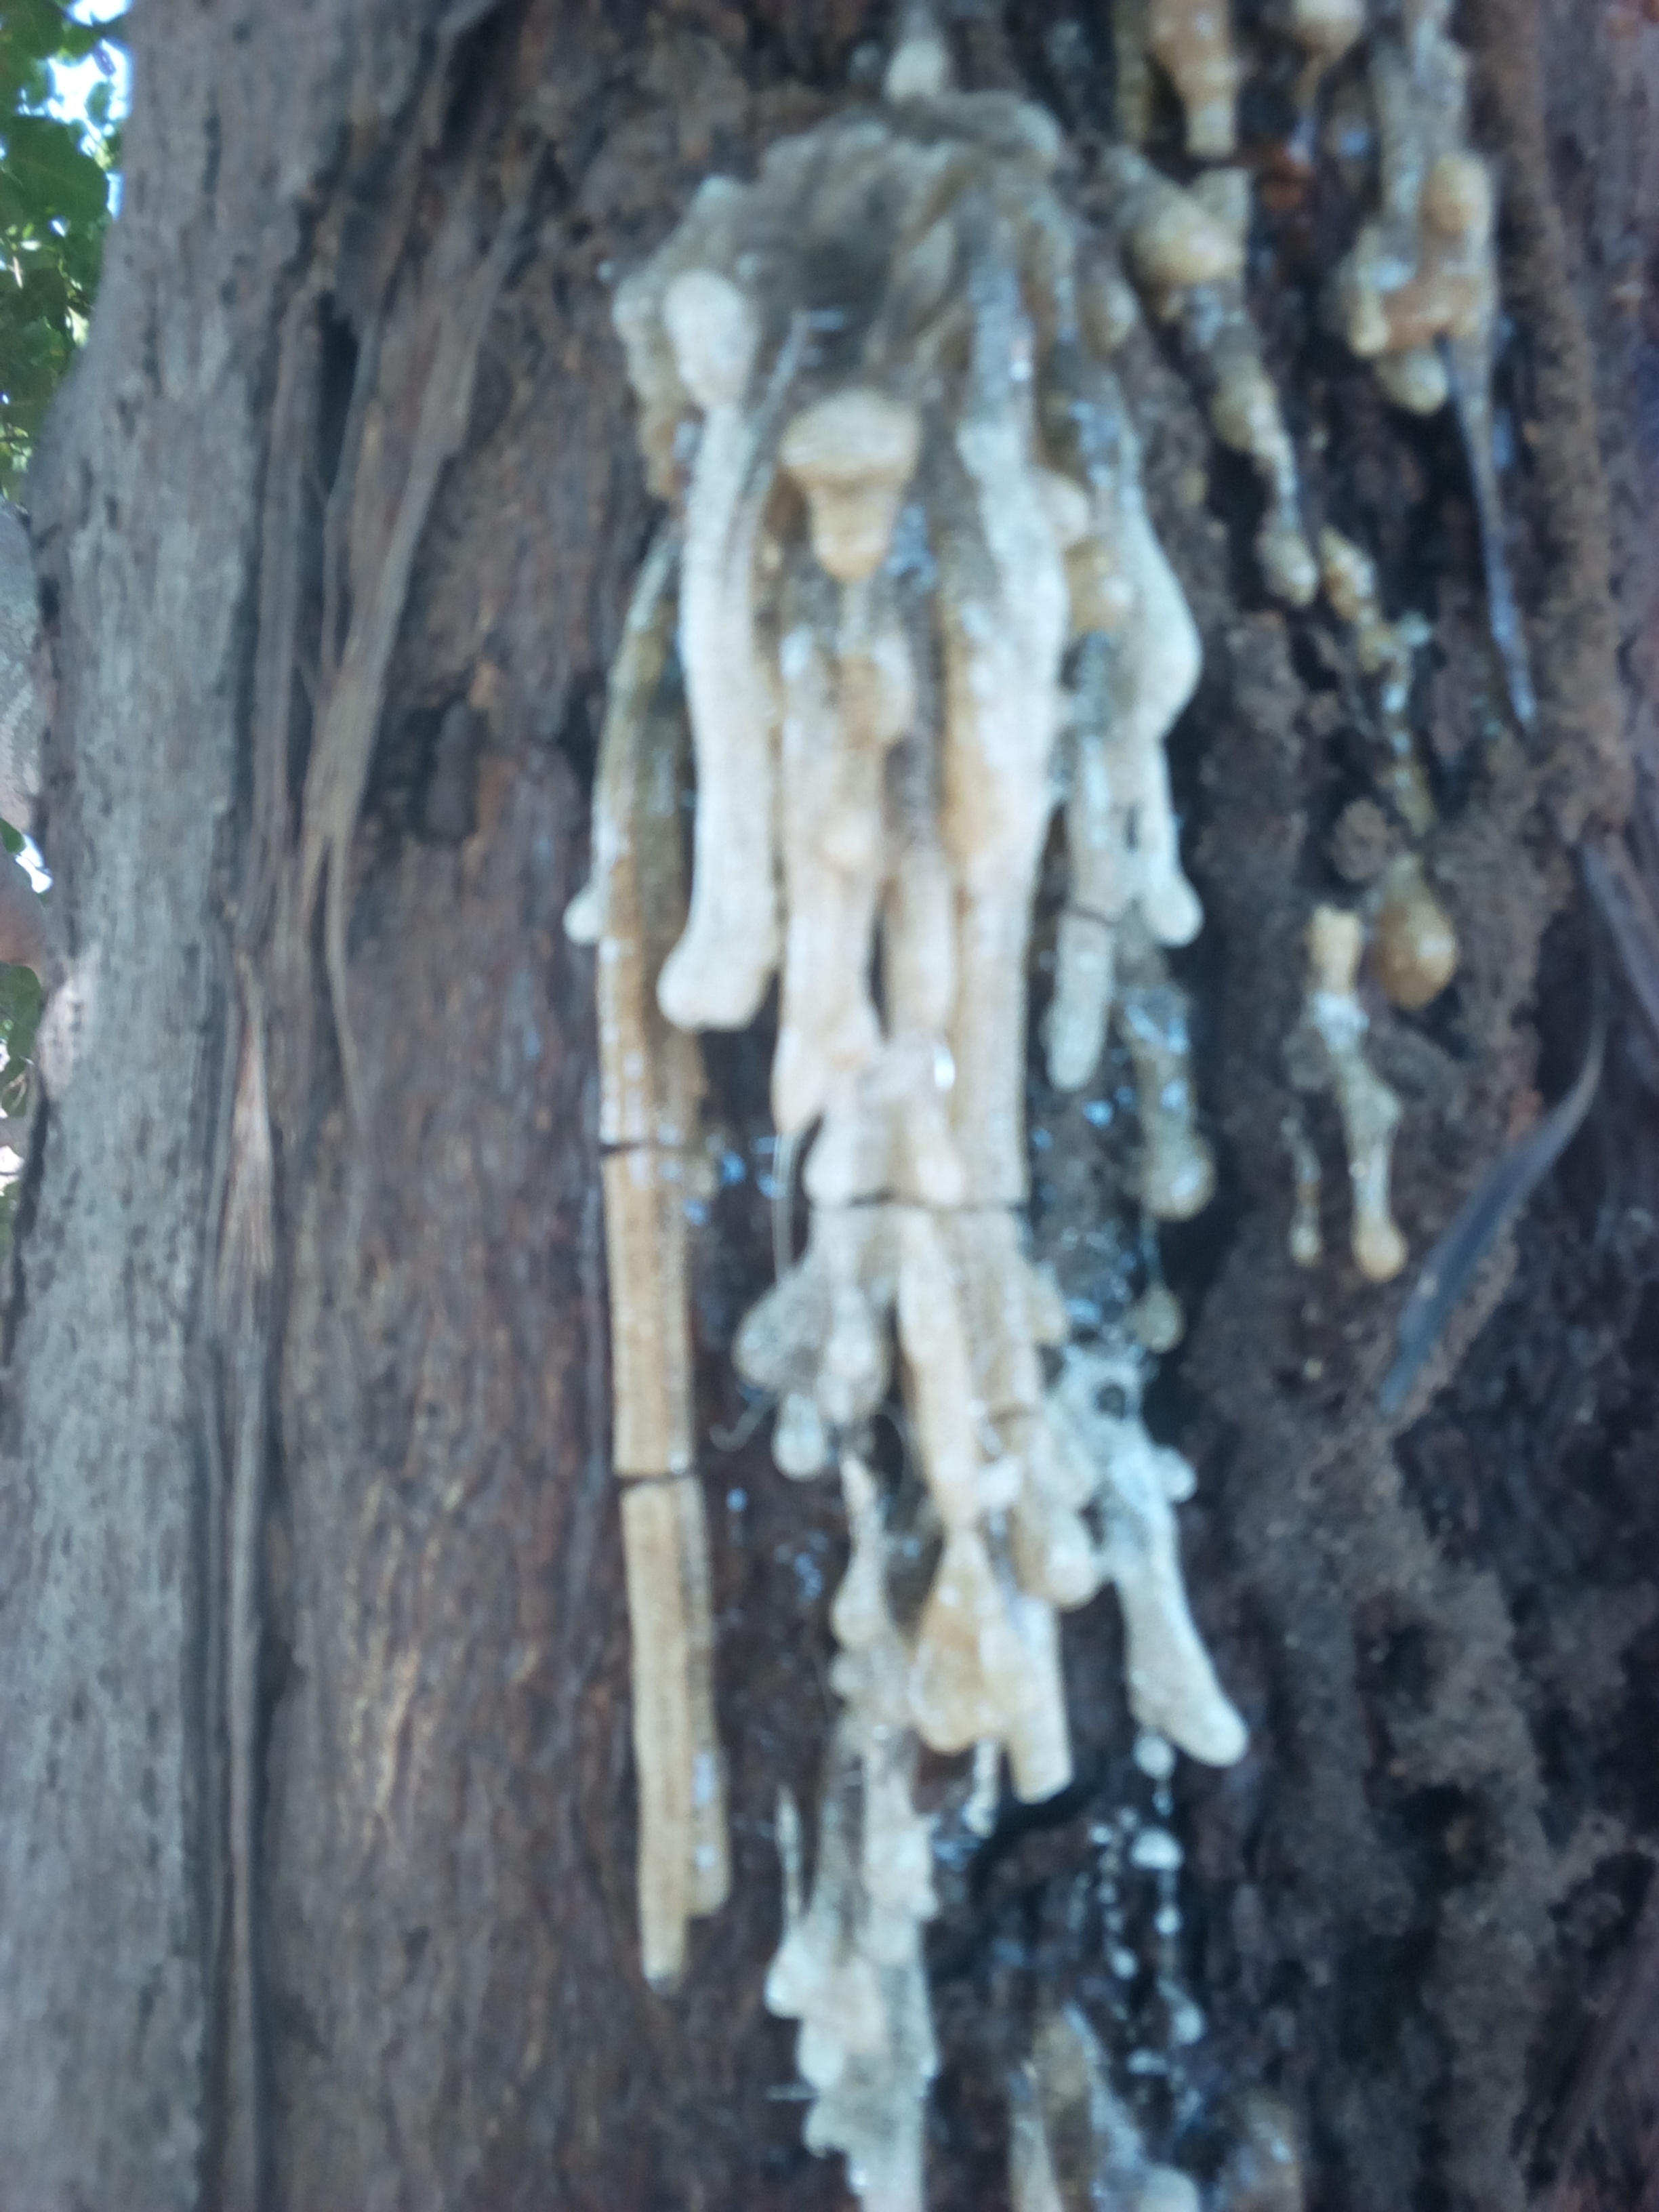Gommose: (554, 59, 1622, 2116)
